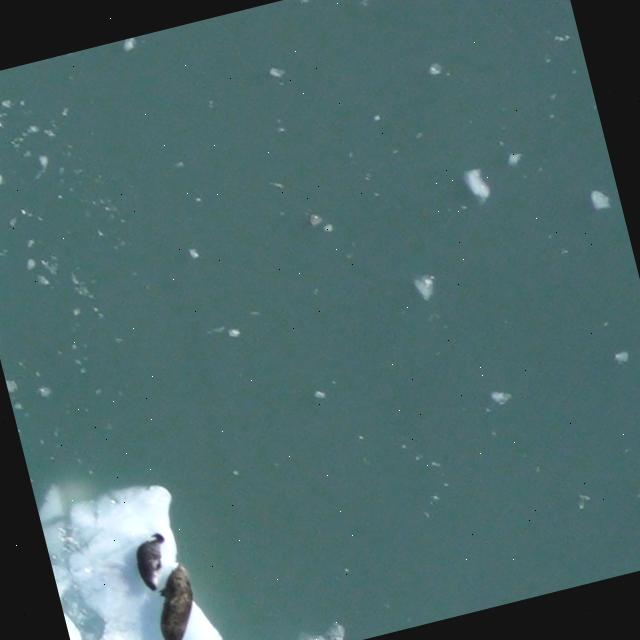seal: (139, 559, 207, 640), (125, 527, 177, 597)
